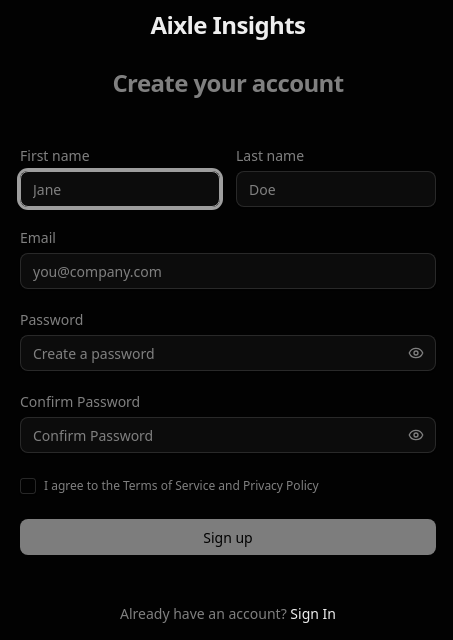
Test: SignUp › Sign up button is enabled once terms are accepted
This screenshot has width=453, height=640.
Click the checkbox.
click(28, 486)  # box [20,478,36,494]
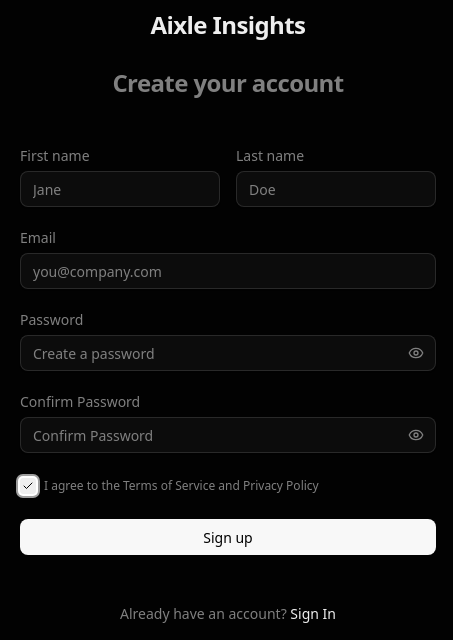
Expected: the button "Sign up" is enabled, [20,519,436,555]
